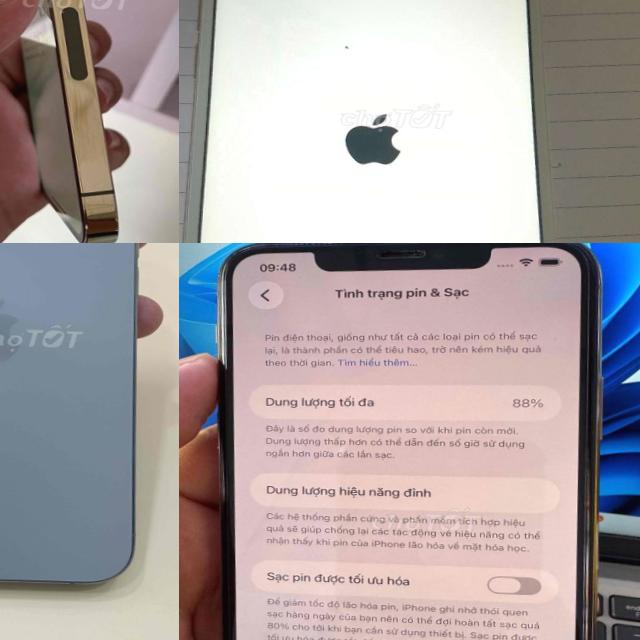screen_defect: (338, 40, 355, 56)
